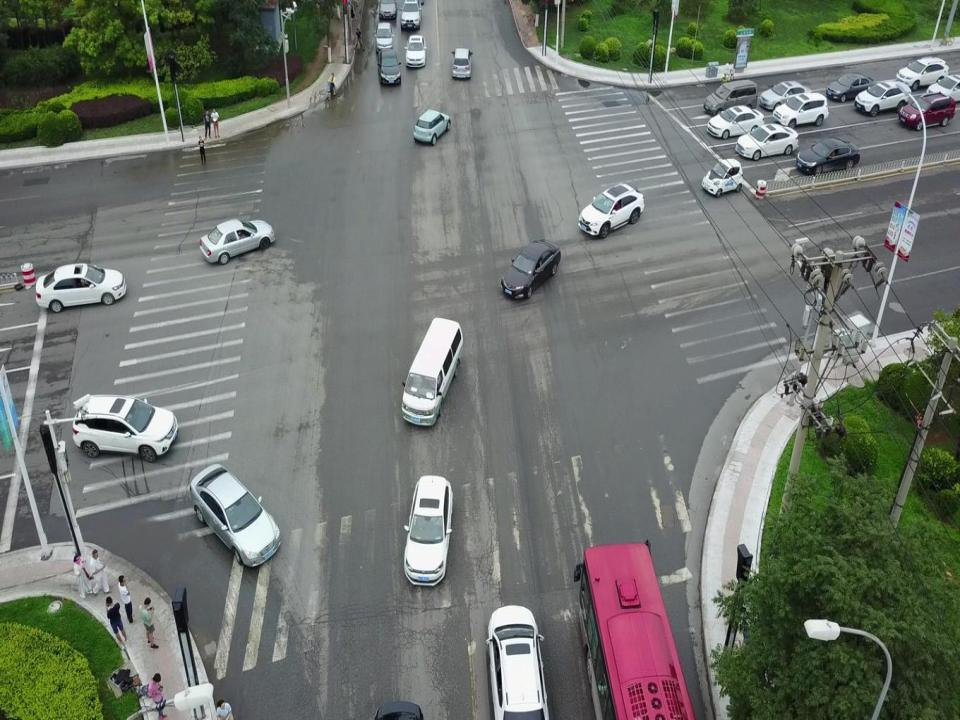bus: (571, 537, 700, 720)
car: (184, 460, 282, 572), (478, 598, 553, 720), (69, 392, 178, 463), (401, 472, 455, 594), (34, 259, 128, 313), (497, 241, 564, 302), (198, 215, 274, 268), (579, 182, 645, 241), (796, 134, 859, 182), (737, 122, 800, 161), (900, 89, 953, 132), (706, 102, 764, 138), (771, 91, 829, 127), (854, 80, 909, 116), (896, 56, 948, 90), (760, 80, 819, 109), (701, 158, 743, 198), (824, 70, 876, 102), (412, 108, 451, 146), (376, 48, 403, 88), (448, 47, 476, 82), (404, 33, 429, 69), (400, 0, 423, 29), (374, 21, 394, 51), (377, 0, 400, 21)
van: (398, 312, 462, 433), (706, 81, 759, 110)
